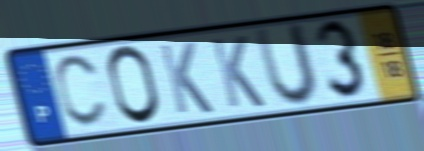3: (313, 17, 370, 104)
C: (52, 51, 110, 131)
K: (207, 34, 268, 111), (156, 40, 217, 117)
O: (104, 43, 163, 127)
U: (251, 21, 322, 110)
